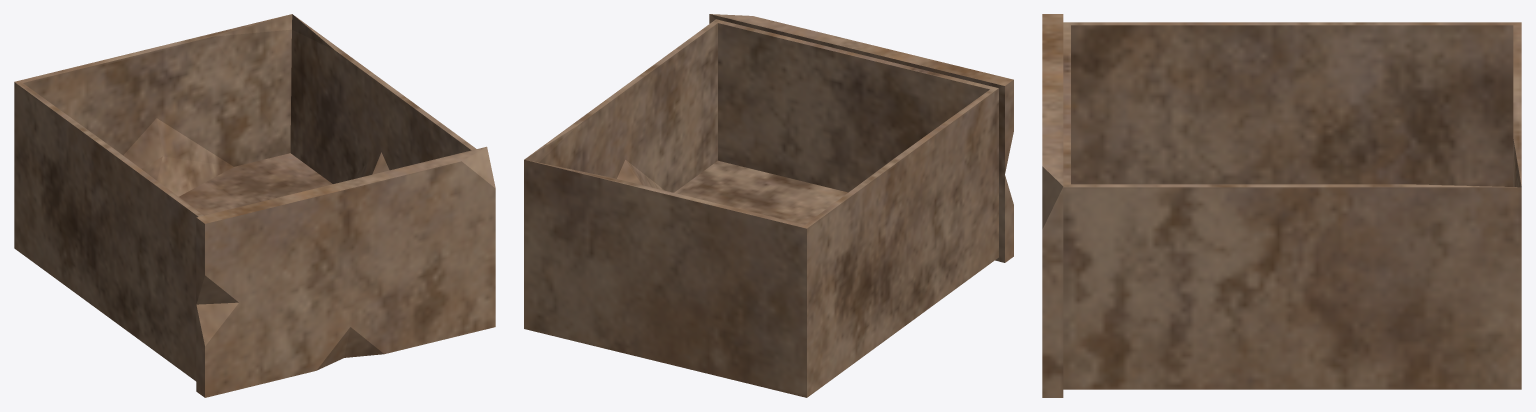
File: bone drawer 6 .fbx
3 views of the same model, side by side, from view 1: azimuth 30°, elevation 25°; view 2: azimuth 150°, elevation 25°; view 3: azimuth 270°, elevation 25° (orthographic). The views are drawn at different scales.
Parts seen in each view (by area): view 1: Cube.010; view 2: Cube.010; view 3: Cube.010.
Boxes of the visible parts, x1,y1,x2,y2 form: Cube.010: (14,14,495,397); Cube.010: (524,14,1013,397); Cube.010: (1042,14,1521,397).
Size of the model in its own units: 132 by 75.48 by 155.
1 material, 1 textured.
